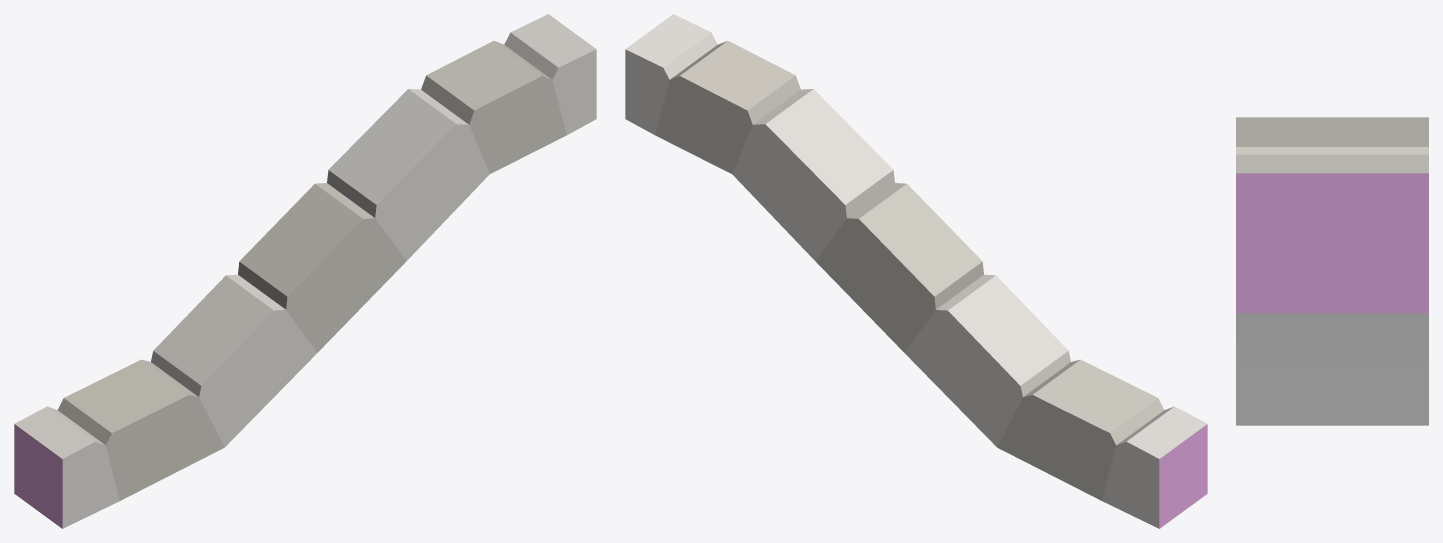
File: Path_Edging_Stones_Incline_Sharp_1x2.glb
3 renders of one model, left to right at view 1: azimuth 30°, elevation 25°; view 2: azimuth 150°, elevation 25°; view 3: azimuth 270°, elevation 25°, orthographic. The views are drawn at different scales.
Parts seen in each view (by area): view 1: Path_Edging_Stones_Incline_Sharp_1x2; view 2: Path_Edging_Stones_Incline_Sharp_1x2; view 3: Path_Edging_Stones_Incline_Sharp_1x2.
Part boxes in pixels (box(x1,y1,x2,y2)): Path_Edging_Stones_Incline_Sharp_1x2: box(14, 14, 596, 528); Path_Edging_Stones_Incline_Sharp_1x2: box(625, 14, 1207, 528); Path_Edging_Stones_Incline_Sharp_1x2: box(1236, 117, 1428, 425).
Size of the model in its own units: 200 by 125 by 31.25.
